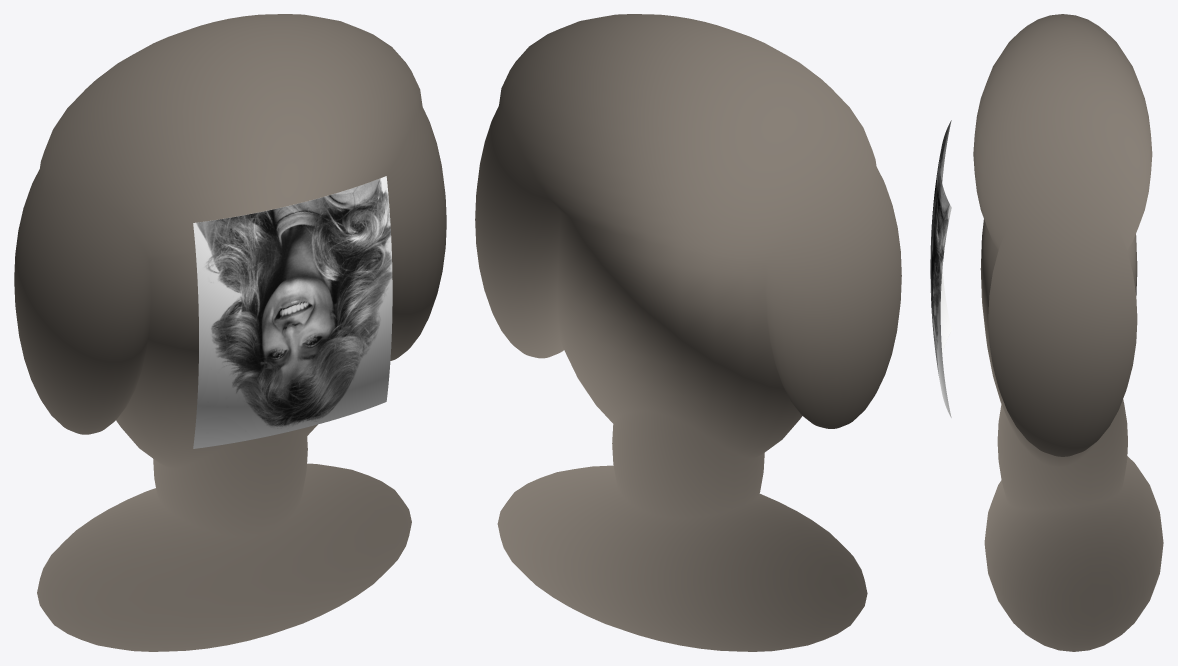
Rendered from farrah_fawcett_bust.glb.
The picture shows the model from 3 angles, left to right: view 1: azimuth 30°, elevation 25°; view 2: azimuth 150°, elevation 25°; view 3: azimuth 270°, elevation 25°; orthographic projection. The views are drawn at different scales.
Bounding box in the file's own units: 2.36 × 3.38 × 1.25.
Materials: 2 (1 with a texture image).
